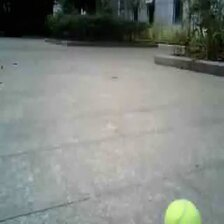tennis: (165, 199, 203, 224)
